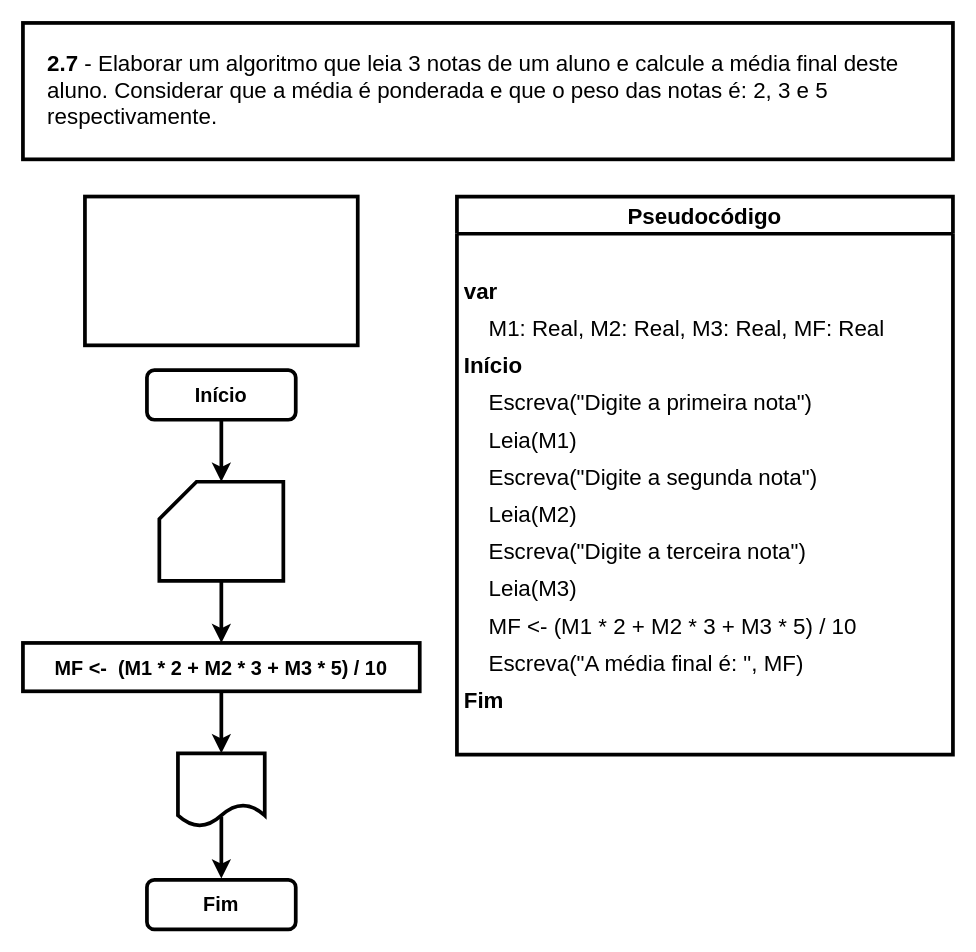
Image size: 976x952. Some labels were removed from this diagram. Each missing label, with the centre of its shape:
"Diagrama Entradas: M1, M2, M3 Saída: MF" goes at point 220,270.
"M1, M2, M3" goes at point 221,530.
"MF" goes at point 220,789.
